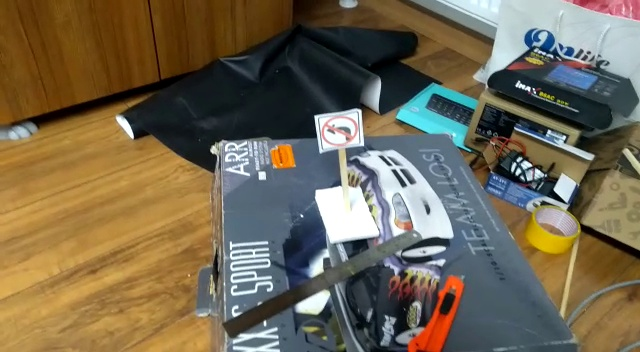sola_donulmez: (320, 110, 361, 149)
